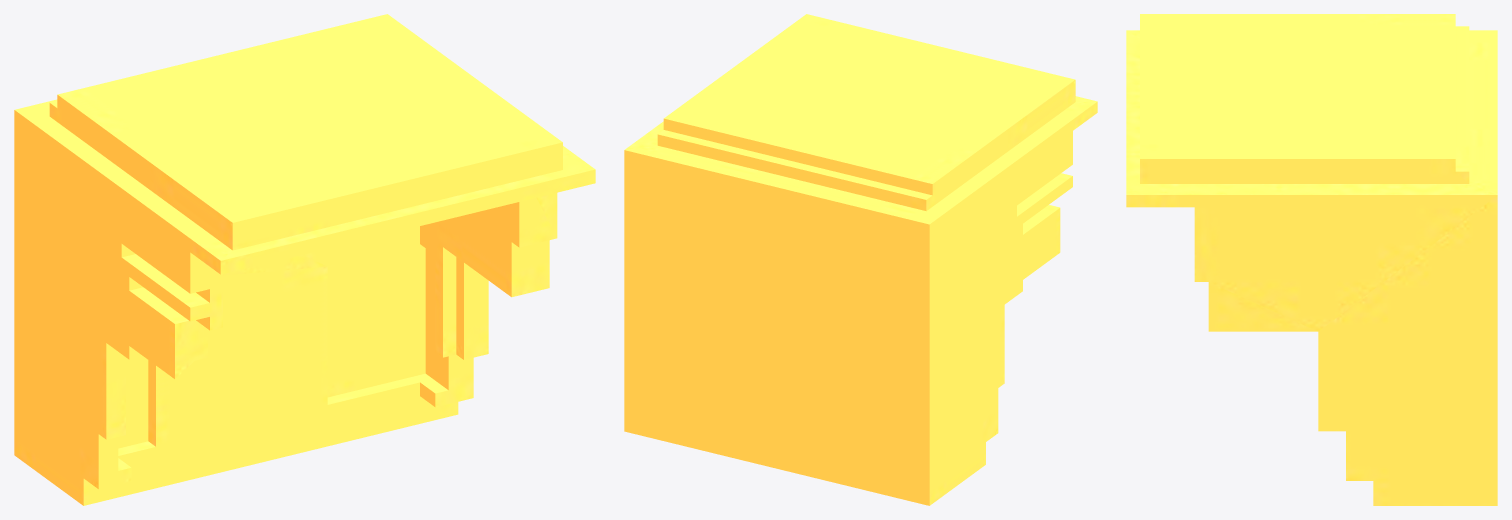
Rendered from cropped_blonde.glb.
3 renders of one model, left to right at view 1: azimuth 30°, elevation 25°; view 2: azimuth 150°, elevation 25°; view 3: azimuth 270°, elevation 25°, orthographic. The views are drawn at different scales.
Visible parts, largest first — view 1: short; view 2: short; view 3: short.
Boxes of the visible parts, x1=… form: short: x1=14, y1=14, x2=595, y2=505; short: x1=624, y1=14, x2=1097, y2=505; short: x1=1126, y1=14, x2=1497, y2=505.
Bounding box in the file's own units: 2.84 × 2.7 × 2.71.
1 material, 1 textured.
